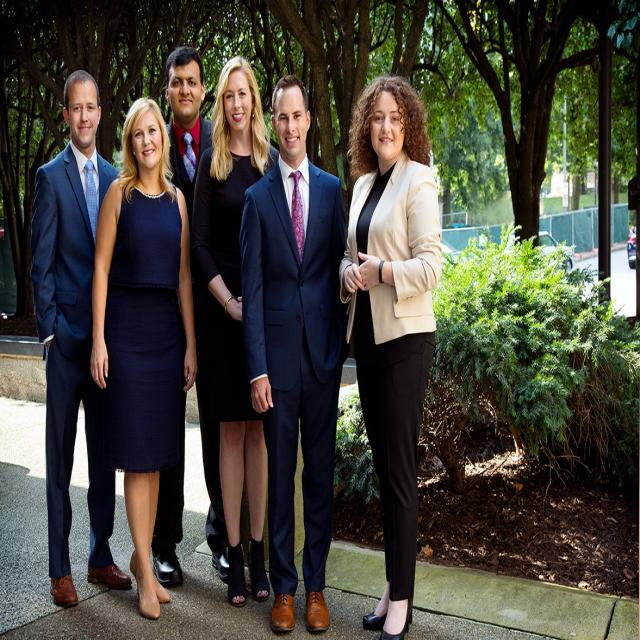body: (236, 71, 349, 634), (334, 76, 446, 639), (30, 69, 139, 608), (90, 95, 199, 623), (188, 53, 287, 608), (150, 45, 238, 588), (451, 219, 468, 227), (628, 221, 634, 231)
